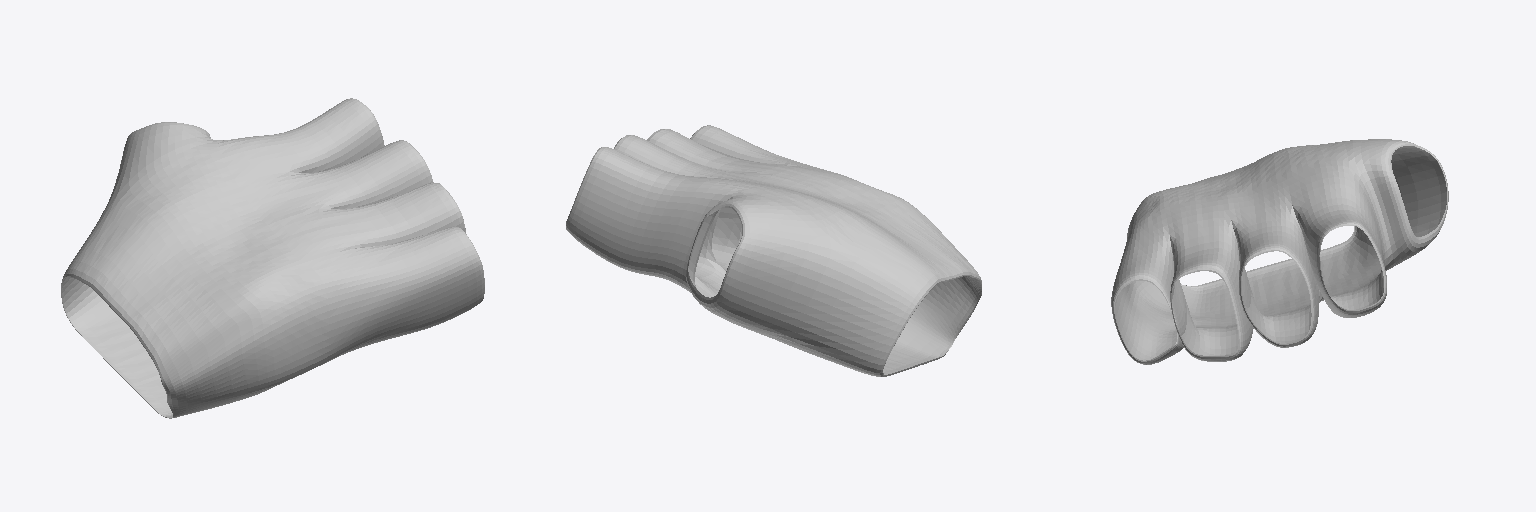
File: SubTool-18-1982961.OBJ
3 renders of one model, left to right at view 1: azimuth 30°, elevation 25°; view 2: azimuth 150°, elevation 25°; view 3: azimuth 270°, elevation 25°, orthographic.
Visible parts, largest first — view 1: Group15; view 2: Group15; view 3: Group15.
Boxes of the visible parts, <box> form: Group15: <box>61,98,484,418</box>; Group15: <box>566,125,981,376</box>; Group15: <box>1111,139,1448,364</box>.
Bounding box in the file's own units: 8.07 × 4.45 × 6.91.